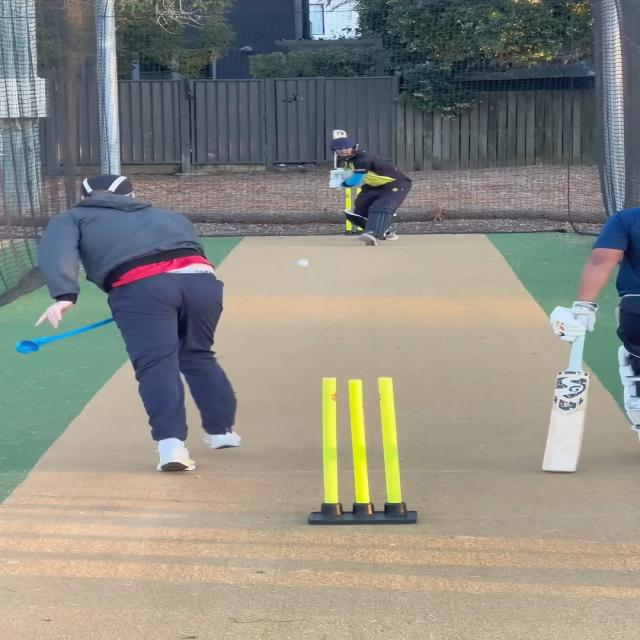ball: (294, 258, 313, 268)
stump: (308, 376, 421, 527)
